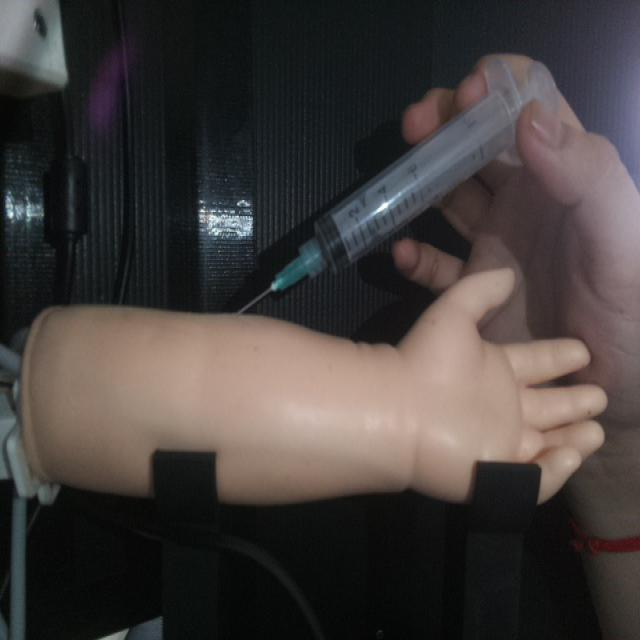Above 30 degrees: (229, 55, 554, 317)
